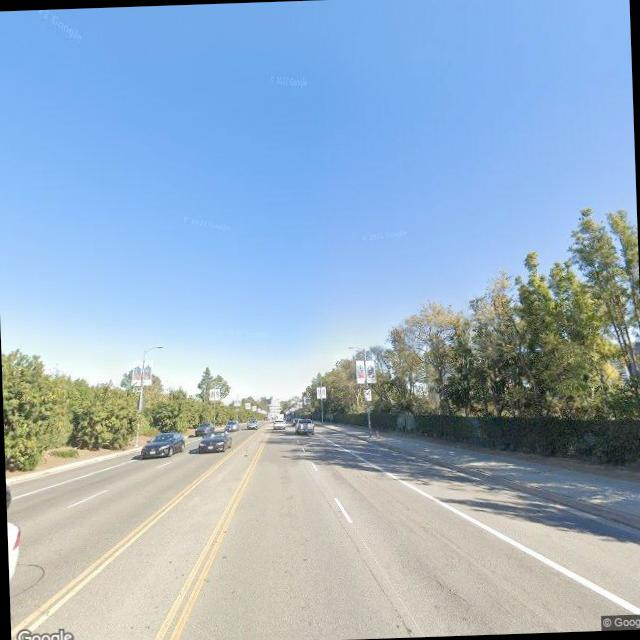pothole: (428, 570, 473, 620)
